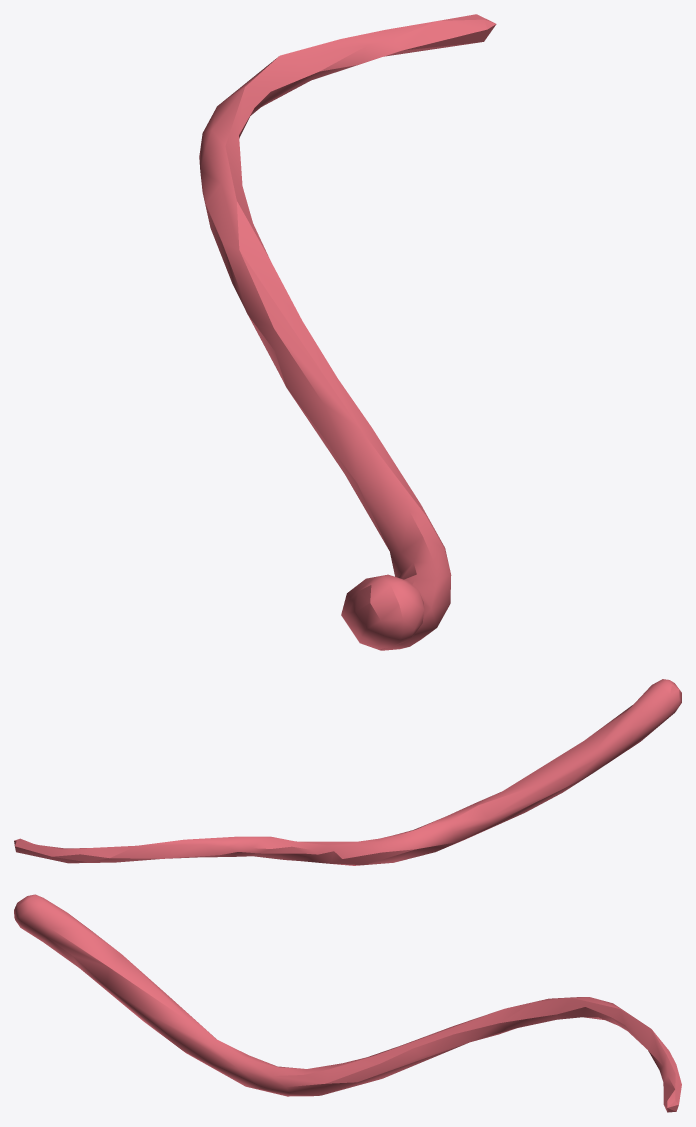
File: fma50519_fj1700.glb
3 views of the same model, one above another, from view 1: azimuth 30°, elevation 25°; view 2: azimuth 150°, elevation 25°; view 3: azimuth 270°, elevation 25° (orthographic). The views are drawn at different scales.
Visible parts, largest first — view 1: FMA50519_FJ1700; view 2: FMA50519_FJ1700; view 3: FMA50519_FJ1700.
Boxes of the visible parts, x1,y1,x2,y2 form: FMA50519_FJ1700: [199, 14, 496, 650]; FMA50519_FJ1700: [14, 679, 681, 865]; FMA50519_FJ1700: [14, 894, 681, 1112].
Bounding box in the file's own units: 0.0114 × 0.0036 × 0.0169.
